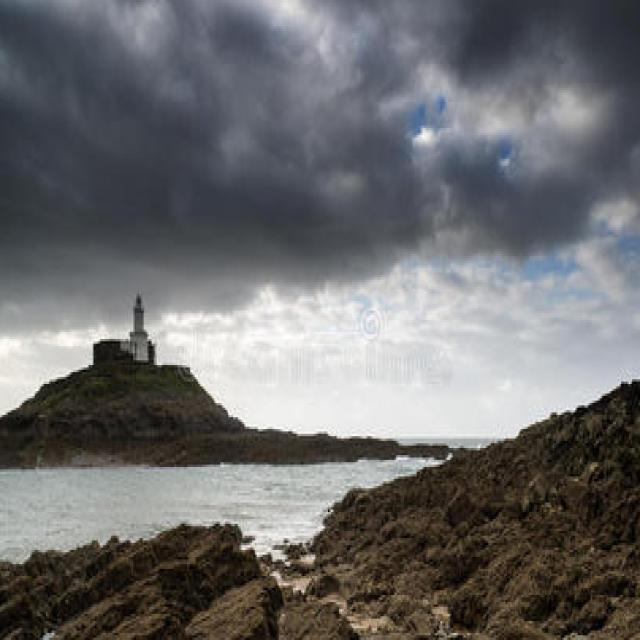island: (0, 270, 407, 479)
